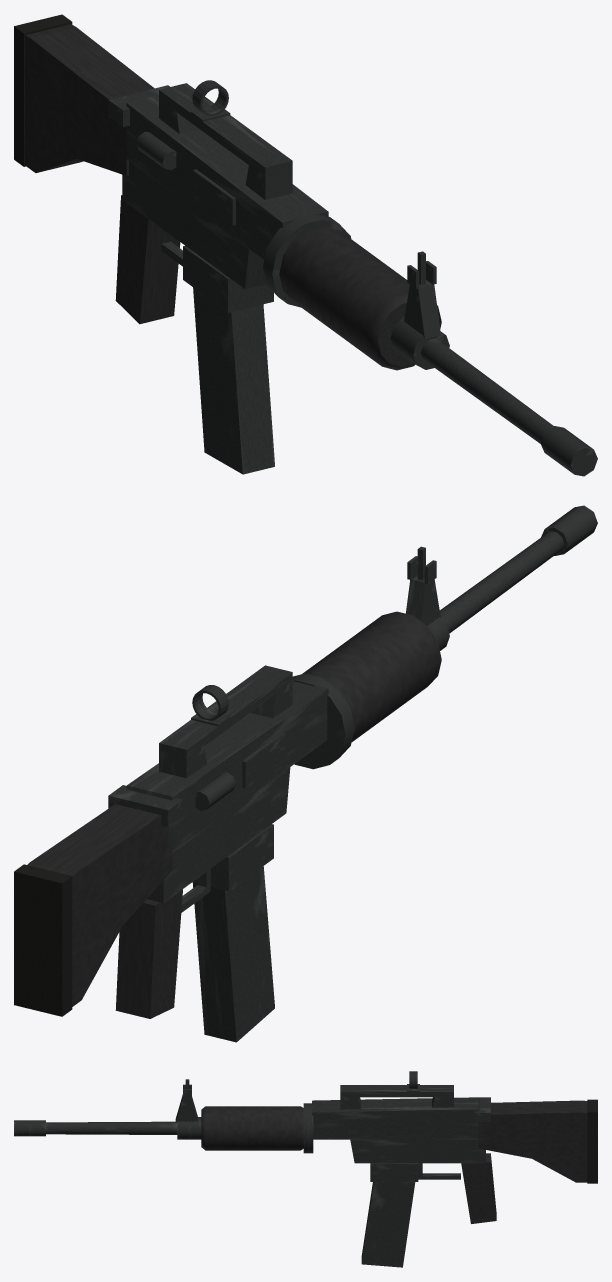
File: weapon-m4.glb
3 views of the same model, one above another, from view 1: azimuth 30°, elevation 25°; view 2: azimuth 150°, elevation 25°; view 3: azimuth 270°, elevation 25° (orthographic). The views are drawn at different scales.
Visible parts, largest first — view 1: weapon-m4, magazine; view 2: weapon-m4, magazine; view 3: weapon-m4, magazine.
Boxes of the visible parts, x1,y1,x2,y2 form: weapon-m4: [14, 14, 597, 476]; magazine: [193, 287, 274, 474]; weapon-m4: [14, 505, 597, 1018]; magazine: [193, 866, 274, 1042]; weapon-m4: [14, 1071, 597, 1223]; magazine: [361, 1182, 415, 1267].
Bounding box in the file's own units: 0.072 × 0.2975 × 0.823.
1 material, 1 textured.
